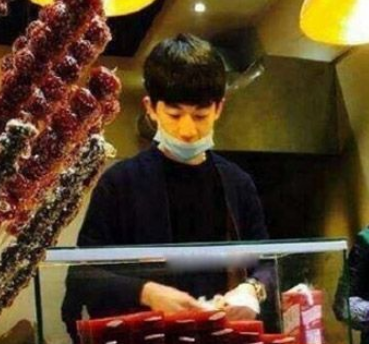face_mask: (156, 91, 214, 160)
